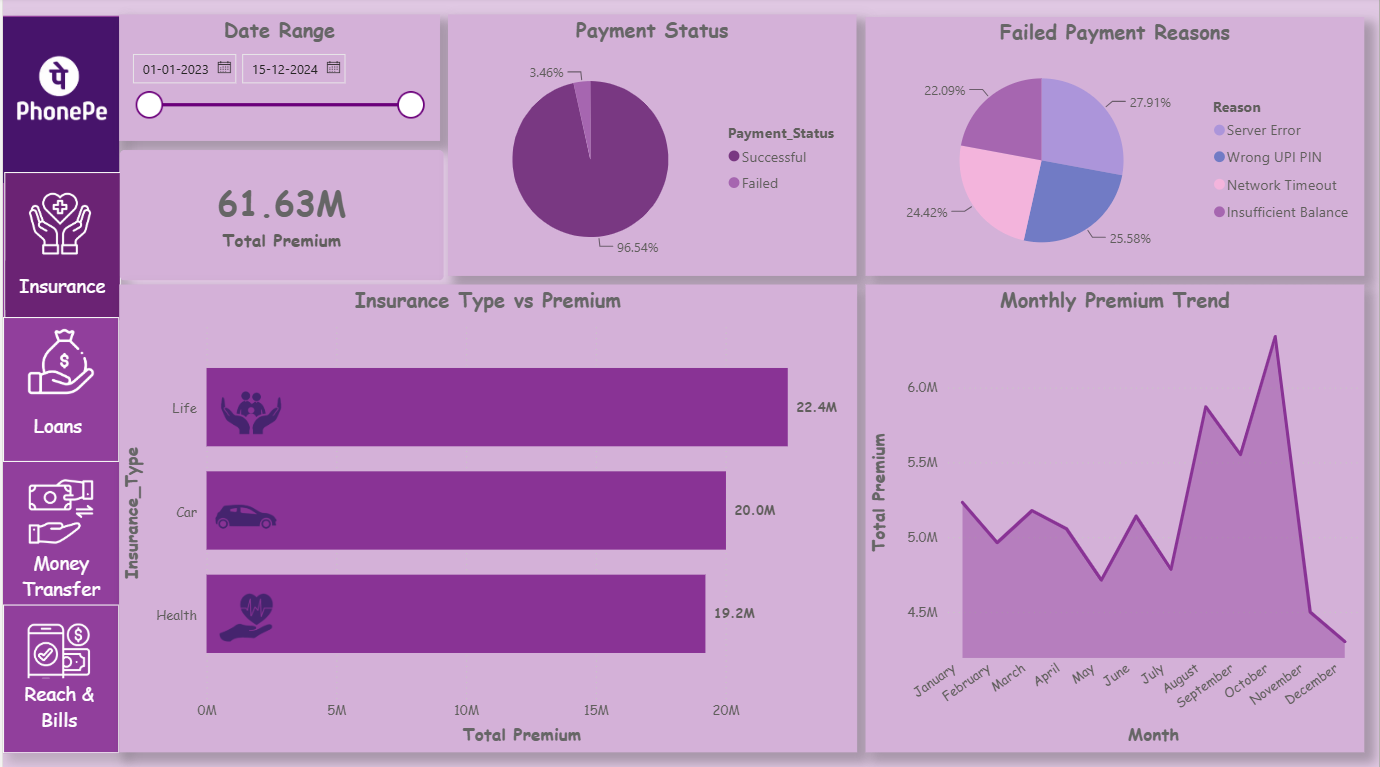

What the dashboard file says about the page in this screenshot:
{"tool":"powerbi","page":{"name":"Insurance","canvas":[1280,720],"ordinal":1},"visuals":[{"type":"shape","box":[0,17.4,108.1,684.9],"z":0},{"type":"shape","box":[0,18.6,108.1,154.7],"z":1000},{"type":"image","box":[9.3,29.1,90.7,116.3],"z":2000},{"type":"shape","box":[1.4,162.8,108.5,139.1],"z":3000},{"type":"image","box":[16.7,176.7,73.7,68.2],"z":4000},{"type":"shape","box":[2.8,244.9,105.7,45.9],"z":5000},{"type":"shape","box":[0,297.7,108.1,134.9],"z":6000},{"type":"image","box":[14,304.7,82.6,67.4],"z":7000},{"type":"shape","box":[2.3,372.1,97.7,52.3],"z":8000},{"type":"image","box":[17.4,445.4,72.1,66.3],"z":9000},{"type":"shape","box":[0,511.6,108.1,52.3],"z":10000},{"type":"shape","box":[0,565.1,108.1,138.4],"z":11000},{"type":"image","box":[16.7,577.4,71,66.8],"z":12000},{"type":"shape","box":[2.3,633.7,100,53.5],"z":13000},{"type":"slicer","title":"Date Range","fields":{"Values":["Calendar.Date"]},"box":[108.1,16.6,298.3,117.4],"z":14000},{"type":"cardVisual","fields":{"Data":["Measures (2).Total Premium"]},"box":[91.5,125.8,335.7,155.9],"z":15000},{"type":"pieChart","title":"Payment Status","fields":{"Category":["Insurance.Payment_Status"],"Y":["Measures (2).Insurance Transactions"]},"box":[414,16.3,380.2,243],"z":16000},{"type":"pieChart","title":"Failed Payment Reasons","fields":{"Category":["Insurance.Reason"],"Y":["Measures (2).Failed Insurance"]},"box":[802.3,18.6,464,240.7],"z":17000},{"type":"clusteredBarChart","title":"Insurance Type vs Premium","fields":{"Category":["Insurance.Insurance_Type"],"Y":["Measures (2).Total Premium"]},"box":[108.1,267.4,686,434.9],"z":18000},{"type":"areaChart","title":"Monthly Premium Trend","fields":{"Category":["Calendar.Month"],"Y":["Measures (2).Total Premium"]},"box":[802,267,464,435],"z":19000},{"type":"image","box":[202.3,365.1,57,43],"z":20000},{"type":"image","box":[196.5,453.5,60.5,58.1],"z":21000},{"type":"image","box":[195.3,551.2,61.6,52.3],"z":22000}]}

Visuals, with their boxes in screenshot pixels (x1, y1, x2, y2), scaled from the page's 1280x720 canvas onto the 1380x767 screenshot:
shape: Rect(0, 19, 117, 748)
shape: Rect(0, 20, 117, 185)
image: Rect(10, 31, 108, 155)
shape: Rect(2, 173, 118, 322)
image: Rect(18, 188, 97, 261)
shape: Rect(3, 261, 117, 310)
shape: Rect(0, 317, 117, 461)
image: Rect(15, 325, 104, 396)
shape: Rect(2, 396, 108, 452)
image: Rect(19, 474, 96, 545)
shape: Rect(0, 545, 117, 601)
shape: Rect(0, 602, 117, 749)
image: Rect(18, 615, 95, 686)
shape: Rect(2, 675, 110, 732)
"Date Range" slicer: Rect(117, 18, 438, 143)
cardVisual - Measures (2).Total Premium: Rect(99, 134, 461, 300)
"Payment Status" pieChart: Rect(446, 17, 856, 276)
"Failed Payment Reasons" pieChart: Rect(865, 20, 1365, 276)
"Insurance Type vs Premium" clusteredBarChart: Rect(117, 285, 856, 748)
"Monthly Premium Trend" areaChart: Rect(865, 284, 1365, 748)
image: Rect(218, 389, 280, 435)
image: Rect(212, 483, 277, 545)
image: Rect(211, 587, 277, 643)
